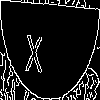X: (25, 24, 44, 73)
